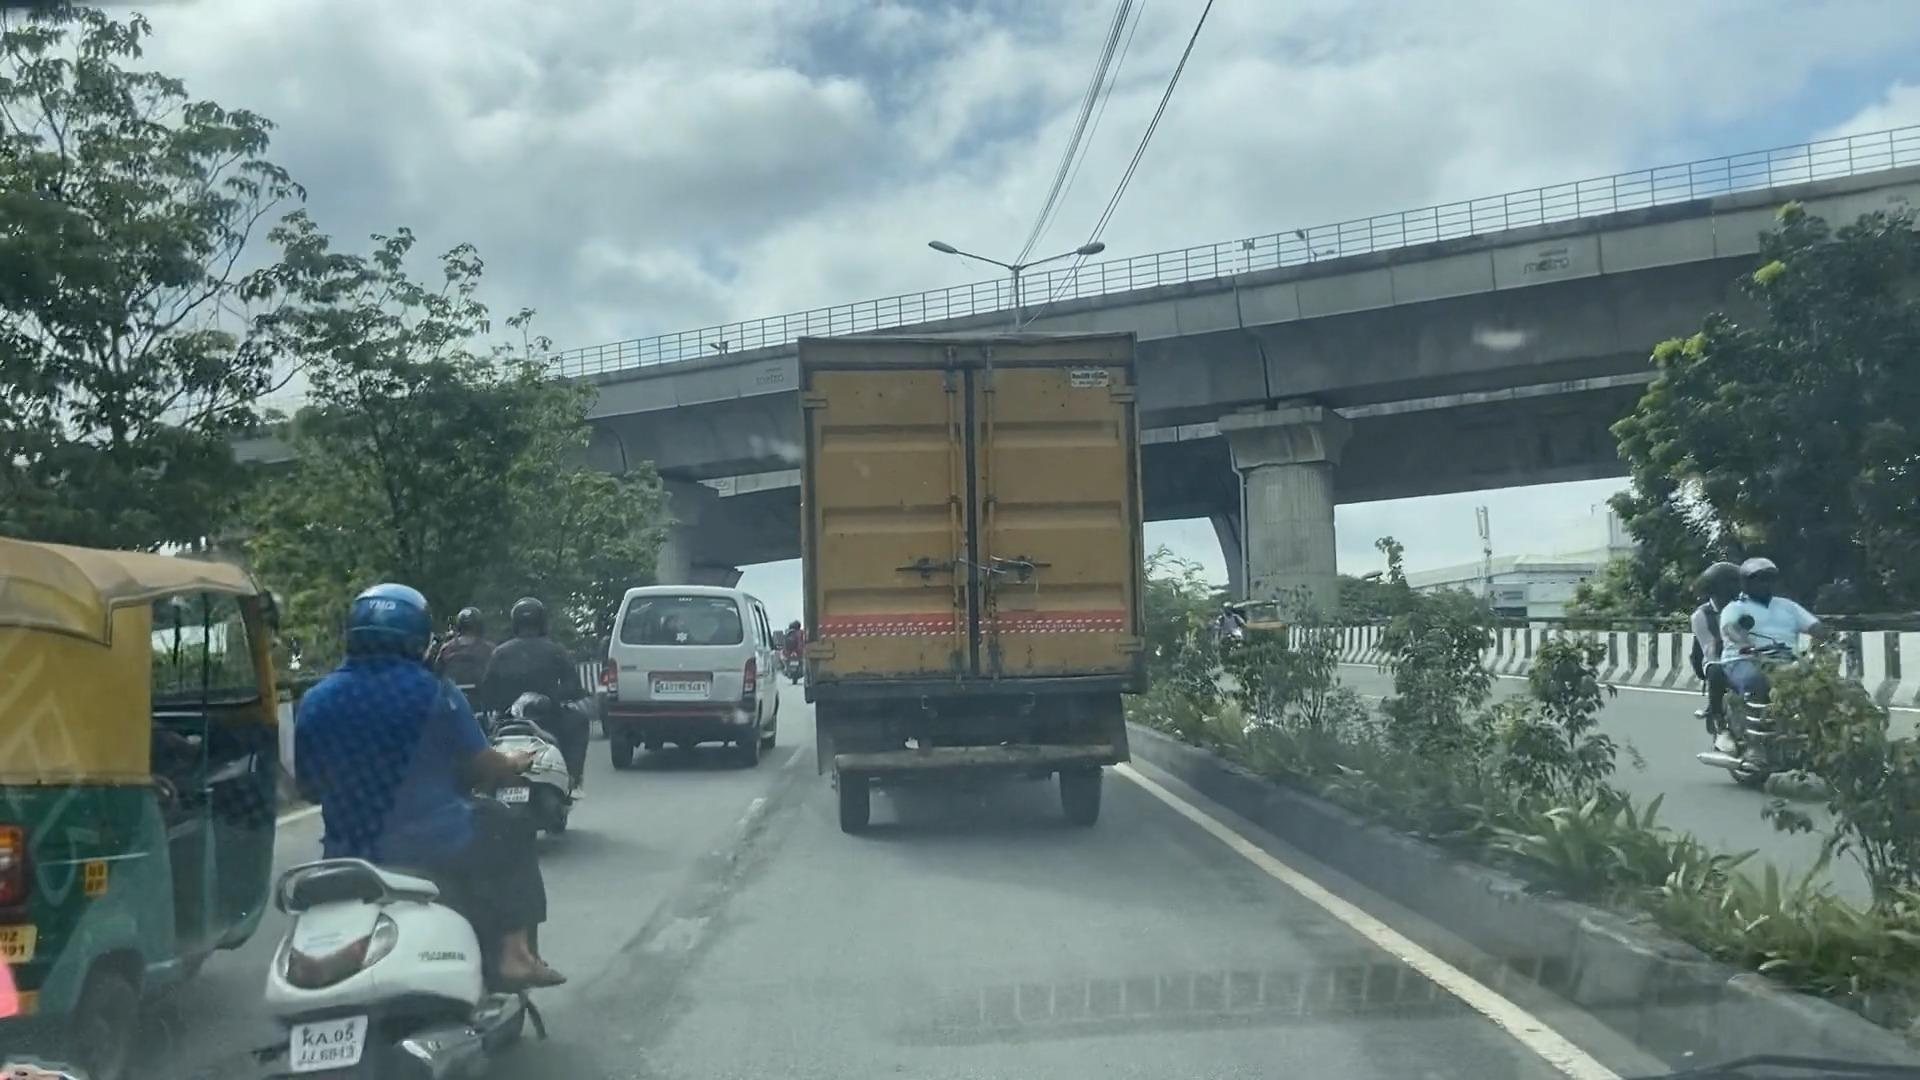HMV: (800, 330, 1138, 852)
LMV: (293, 587, 434, 1080), (607, 570, 752, 762)
